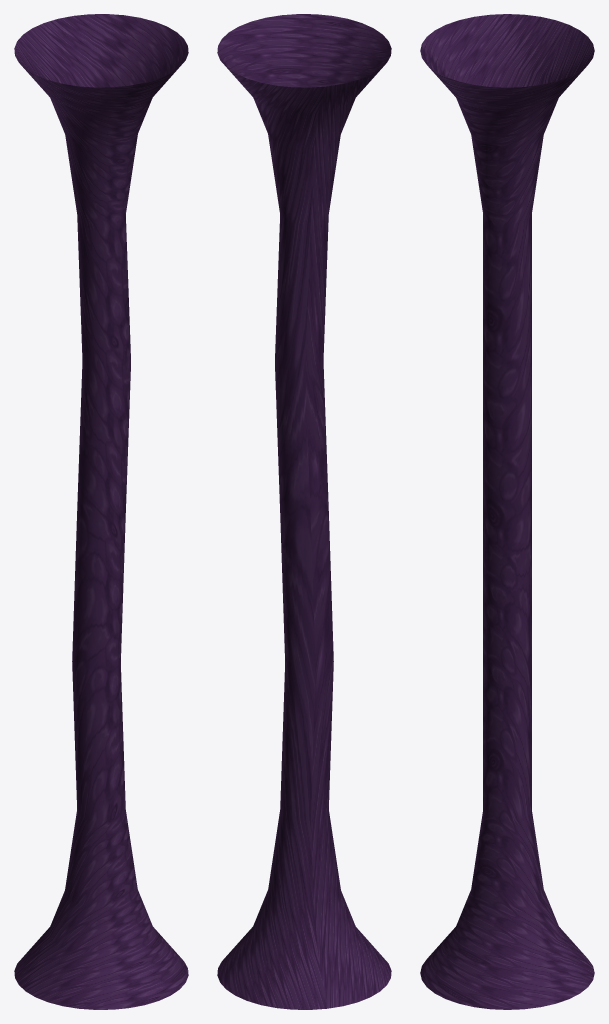
The model's file is Pilares.fbx.
3 views of the same model, side by side, from view 1: azimuth 30°, elevation 25°; view 2: azimuth 150°, elevation 25°; view 3: azimuth 270°, elevation 25° (orthographic).
Parts seen in each view (by area): view 1: Cylinder; view 2: Cylinder; view 3: Cylinder.
Boxes of the visible parts, x1,y1,x2,y2 form: Cylinder: [14, 14, 188, 1009]; Cylinder: [217, 14, 391, 1009]; Cylinder: [420, 14, 594, 1009].
Bounding box in the file's own units: 2001 × 11663 × 2001.
